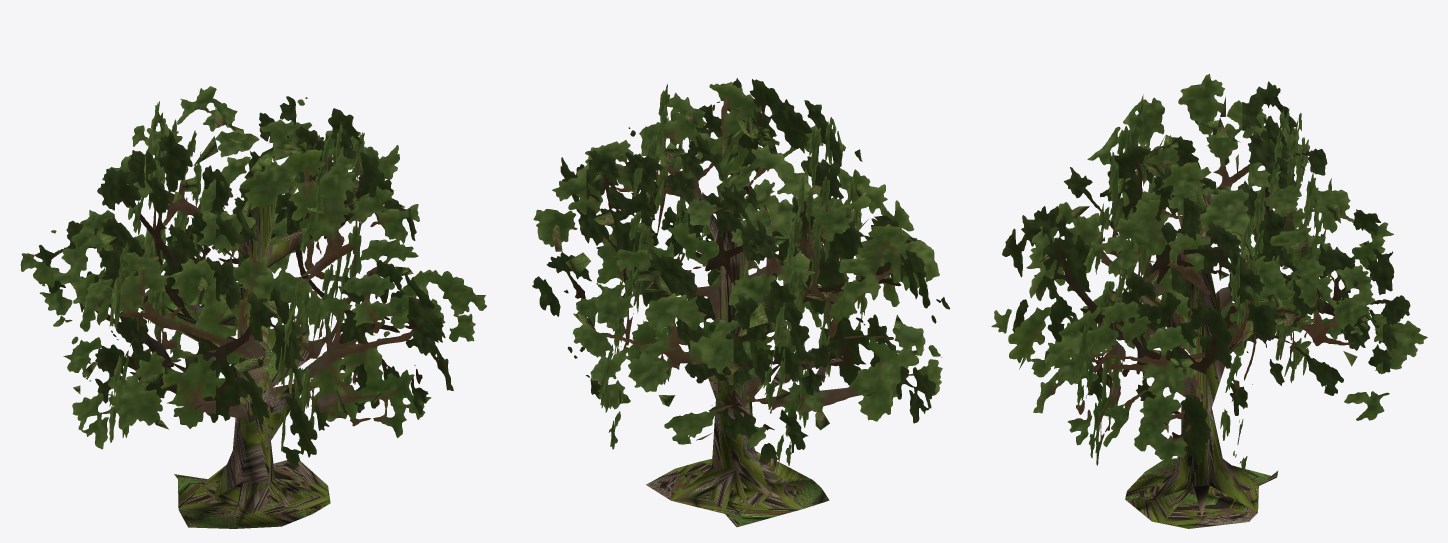
The model's file is tree_big.glb.
3 renders of one model, left to right at view 1: azimuth 30°, elevation 25°; view 2: azimuth 150°, elevation 25°; view 3: azimuth 270°, elevation 25°, orthographic.
Parts seen in each view (by area): view 1: tree_big; view 2: tree_big; view 3: tree_big.
Part boxes in pixels (x1=…): tree_big: x1=20, y1=86, x2=486, y2=528; tree_big: x1=532, y1=78, x2=949, y2=527; tree_big: x1=991, y1=74, x2=1427, y2=528.
Size of the model in its own units: 1.06 by 0.9647 by 1.01.
Materials: 1 (1 with a texture image).
